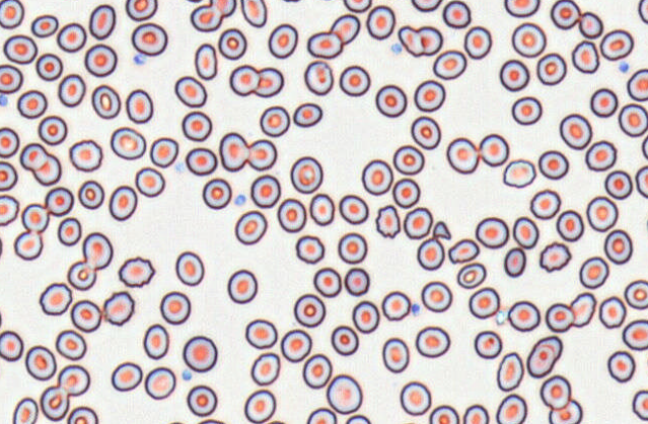PLT: (233, 193, 247, 208), (390, 41, 404, 54), (617, 61, 631, 73), (410, 302, 421, 317), (180, 368, 192, 380), (133, 54, 145, 65), (0, 92, 8, 108)
RBC: (526, 335, 562, 378), (397, 24, 442, 56), (326, 374, 362, 414), (182, 335, 217, 372), (290, 155, 323, 193), (511, 22, 546, 57), (110, 126, 146, 160), (131, 22, 167, 56), (446, 137, 479, 174), (559, 113, 592, 150), (82, 231, 113, 270), (586, 195, 618, 232), (361, 158, 393, 195), (219, 132, 249, 171), (243, 388, 276, 423), (415, 325, 450, 358), (234, 210, 267, 245), (539, 374, 571, 410), (24, 345, 56, 381), (399, 380, 431, 416), (38, 282, 72, 315), (68, 139, 102, 172), (84, 43, 117, 77), (496, 351, 524, 391), (599, 28, 634, 60), (118, 256, 154, 287), (144, 366, 176, 400), (280, 328, 312, 362), (159, 291, 191, 325), (293, 293, 325, 327), (475, 216, 509, 248), (103, 291, 134, 326), (39, 385, 69, 421), (302, 353, 332, 389), (57, 364, 90, 396), (174, 75, 207, 107), (468, 286, 500, 319), (413, 79, 445, 112), (375, 84, 407, 117), (432, 49, 466, 80), (410, 115, 441, 149), (250, 174, 281, 208), (268, 23, 298, 58), (603, 229, 633, 264), (91, 84, 121, 119), (175, 250, 204, 286), (420, 280, 452, 312), (70, 299, 101, 332), (186, 384, 217, 417), (244, 318, 277, 349), (507, 300, 540, 331), (478, 133, 509, 166), (3, 34, 37, 64), (502, 158, 536, 188), (227, 269, 257, 303), (304, 60, 333, 95), (108, 185, 137, 220), (277, 197, 306, 232), (381, 337, 409, 373), (539, 241, 571, 272), (392, 144, 424, 175), (259, 105, 290, 137), (339, 64, 370, 96), (585, 140, 617, 171), (579, 256, 609, 289), (250, 352, 280, 385), (536, 52, 566, 85), (366, 5, 395, 39), (618, 103, 647, 137), (463, 25, 492, 59), (307, 31, 342, 59), (88, 4, 116, 39), (125, 88, 153, 123), (142, 323, 169, 359), (55, 329, 86, 360), (329, 13, 360, 44), (134, 166, 165, 197), (181, 110, 212, 141), (538, 149, 569, 180), (229, 64, 259, 96), (110, 361, 142, 391), (247, 138, 277, 170), (495, 393, 527, 423), (529, 189, 561, 219), (499, 59, 529, 91), (337, 232, 367, 264), (32, 152, 61, 185), (218, 27, 247, 60), (403, 206, 432, 239), (555, 209, 584, 242), (57, 73, 85, 107), (569, 292, 596, 327), (254, 66, 284, 97), (202, 177, 231, 209), (149, 136, 178, 168), (416, 237, 444, 270), (598, 295, 626, 328), (607, 350, 635, 383), (351, 300, 379, 333), (571, 40, 599, 73), (13, 230, 43, 260), (44, 186, 74, 216), (544, 302, 574, 332), (37, 115, 67, 145), (56, 22, 86, 52), (338, 194, 368, 224), (381, 290, 410, 321), (511, 96, 542, 125), (190, 4, 222, 32), (330, 324, 358, 356), (185, 147, 217, 175), (194, 42, 217, 80), (67, 260, 96, 290), (17, 89, 47, 118), (295, 234, 324, 264), (550, 0, 580, 29), (21, 202, 49, 233), (392, 177, 420, 208), (512, 216, 539, 248), (375, 204, 400, 238), (19, 142, 48, 171), (473, 330, 502, 359), (456, 261, 486, 289), (313, 267, 341, 297), (604, 169, 632, 199), (590, 87, 618, 117), (548, 399, 582, 423), (35, 52, 63, 81), (442, 0, 471, 28), (77, 179, 104, 209), (448, 238, 479, 264), (309, 193, 334, 225), (622, 319, 647, 350), (0, 329, 23, 361), (240, 0, 267, 27), (344, 267, 369, 296), (293, 102, 322, 127), (57, 216, 81, 246), (578, 11, 603, 39), (0, 0, 24, 29), (626, 68, 647, 101), (0, 63, 23, 93), (624, 279, 647, 309), (503, 247, 526, 277), (12, 397, 38, 423), (30, 14, 58, 38), (125, 0, 157, 21), (504, 0, 540, 17), (0, 194, 19, 226), (0, 126, 19, 158), (428, 404, 459, 423), (0, 160, 18, 191), (66, 406, 98, 423), (462, 403, 489, 423), (306, 407, 337, 423), (632, 389, 647, 421), (211, 0, 236, 17), (635, 165, 647, 198), (411, 0, 442, 12), (343, 0, 371, 12), (638, 0, 648, 24), (345, 414, 370, 423), (641, 134, 648, 160), (196, 418, 225, 424), (264, 419, 285, 424), (165, 420, 186, 424), (0, 233, 3, 259), (281, 0, 301, 3), (185, 0, 204, 3)
Schistocyte: (432, 219, 451, 240)
